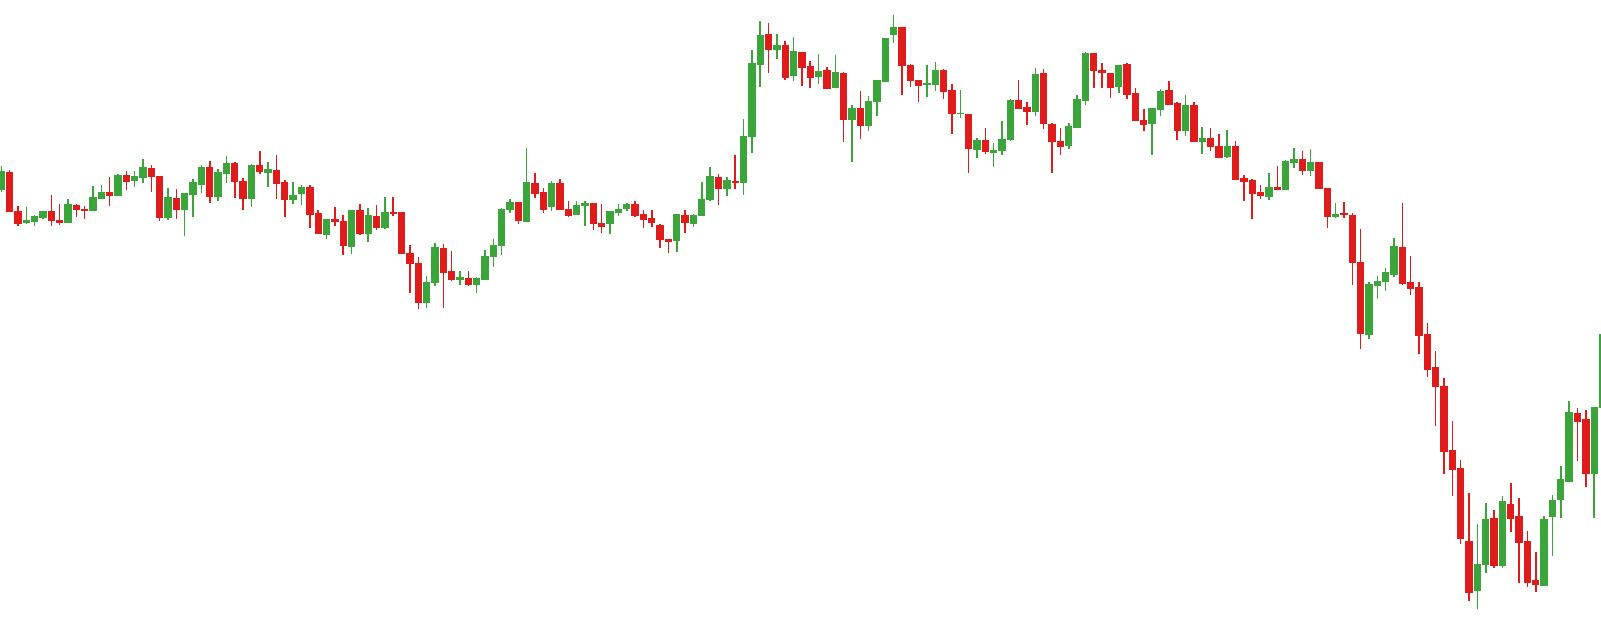buy: (598, 208, 681, 259)
sell: (1029, 33, 1099, 133)
